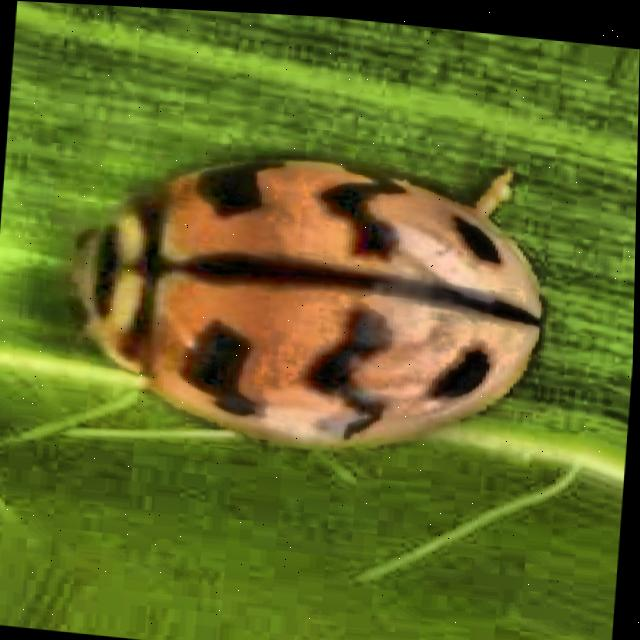Asian-Lady-beetle: (32, 73, 622, 504)
